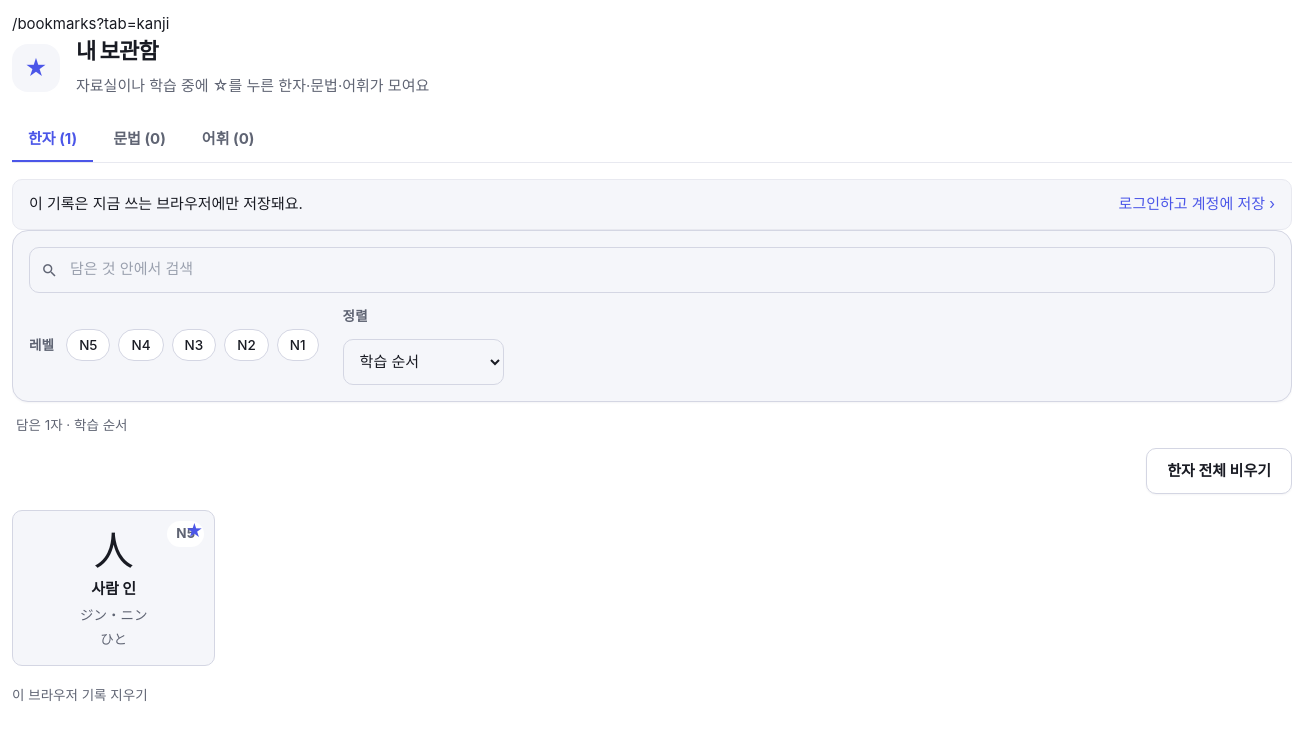
Scenario: BookmarksPage — 목록 · 빼기 (AC-B-18·19·22) › [되돌리기]를 누르면 그 자리에 항목이 다시 나타난다 (목록을 다시 부르지 않는다)
Click the button named "人" at (194, 531), box [178,515,210,547]
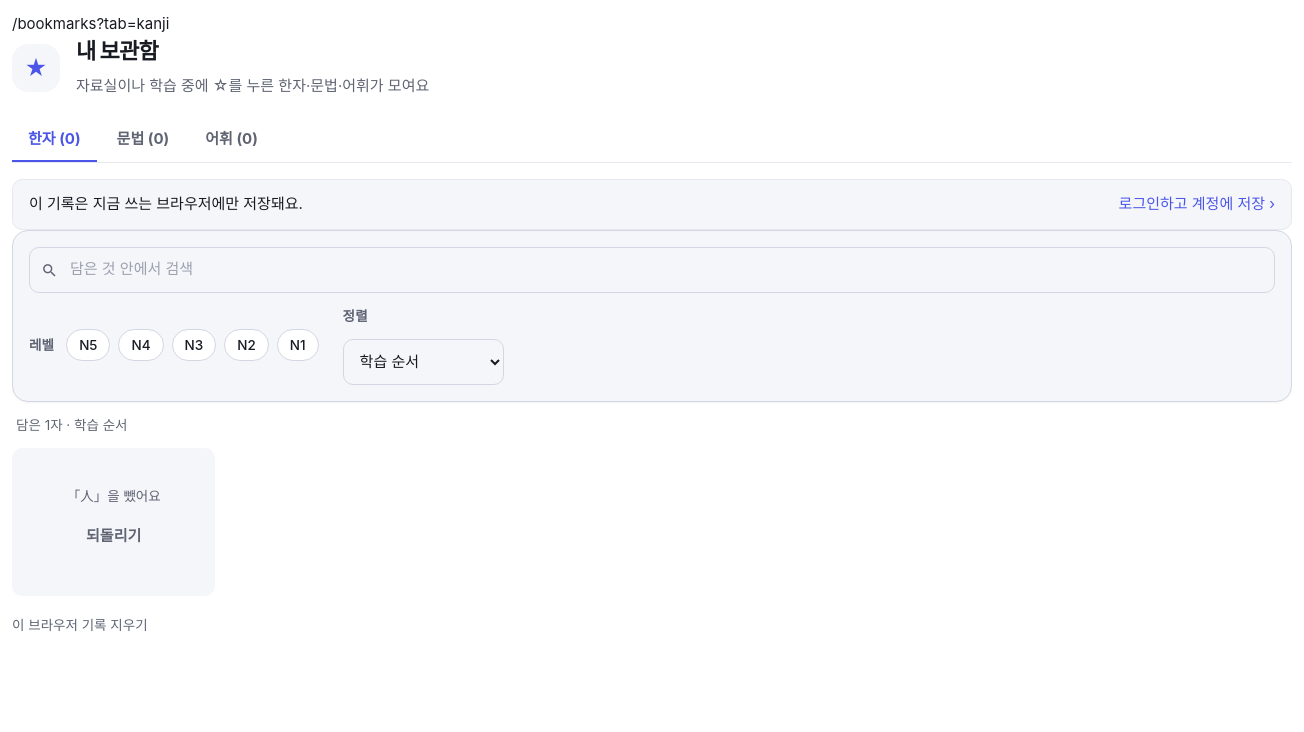
Click the button "되돌리기" at (114, 536), box [65,513,162,559]
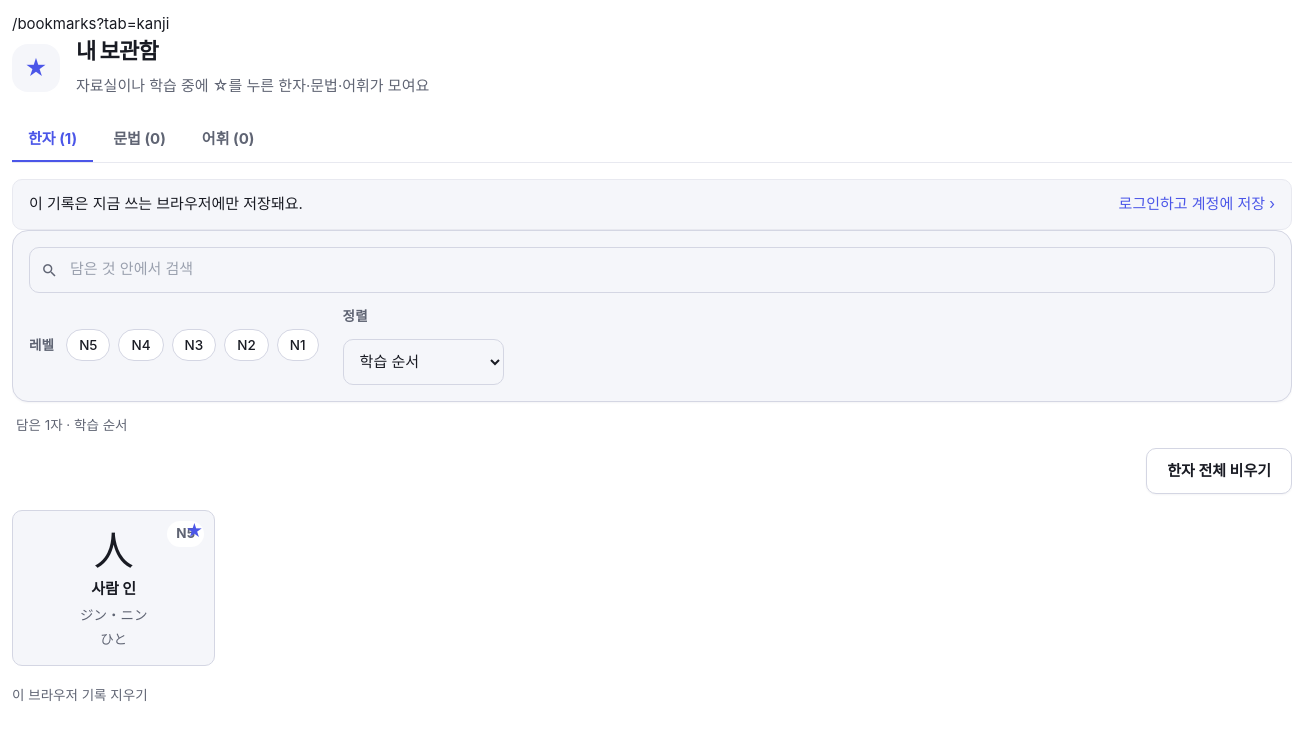
Check: the text "뺐어요" is gone
